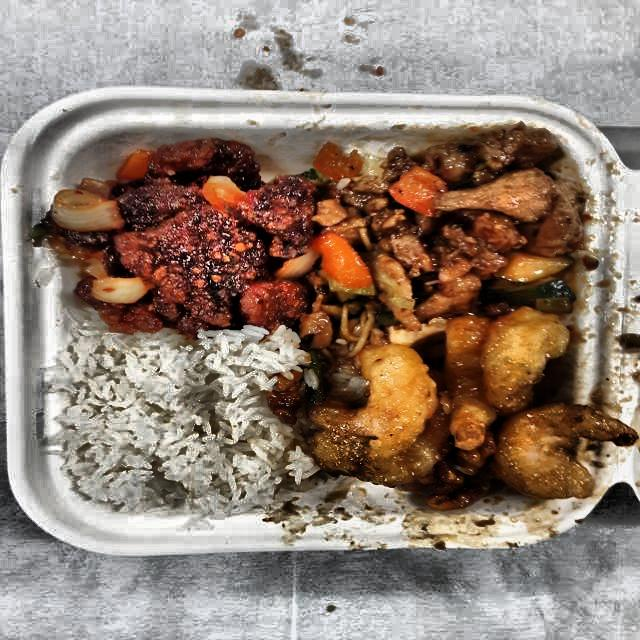Food: (308, 126, 593, 337), (320, 313, 608, 512), (44, 130, 318, 336), (57, 334, 289, 514)
